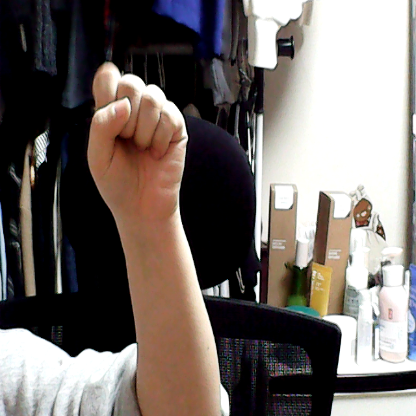Finger_0: (73, 34, 211, 231)
